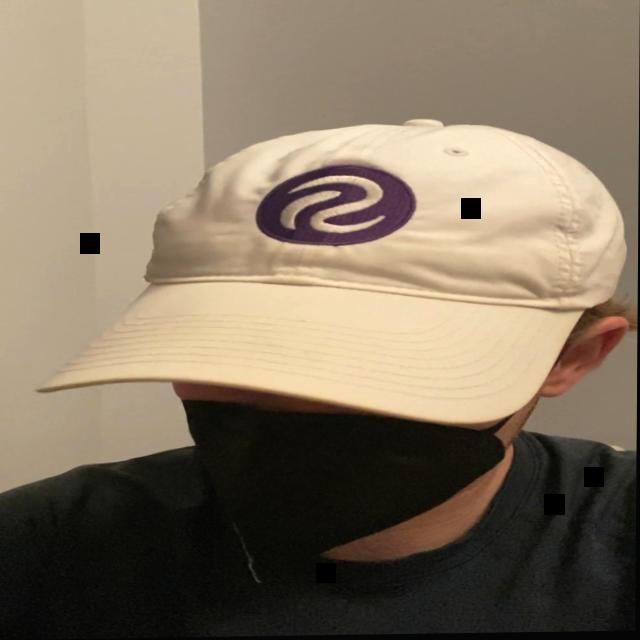Mask: (171, 373, 536, 581)
